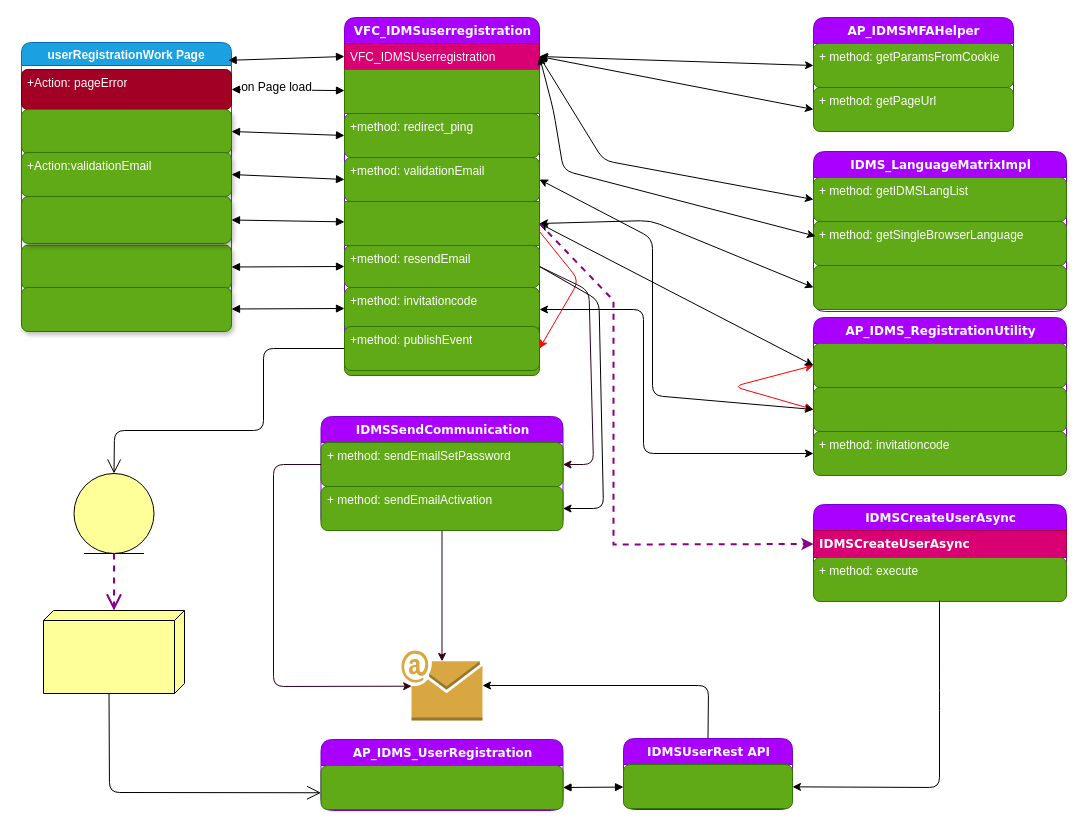
Image size: 1084x830. Some labels were removed from this diagram. The shapes that lost their labels are listed below. From the top down, each one's centre as x and y in pixels, then its label:
At (x=442, y=91): "+ method: pageError".
At (x=127, y=132): "+Action:redirect_ping".
At (x=127, y=221): "+Action:submit".
At (x=442, y=223): "+method: submit".
At (x=127, y=268): "+Action:resendEmail".
At (x=939, y=287): "+ method: getLocaleCode".
At (x=127, y=310): "+Action:invitationcode".
At (x=939, y=365): "+ method: validateFormData".
At (x=939, y=409): "+ method: validateEmail".
At (x=113, y=513): "Publish Event".
At (x=113, y=652): "Process Builder IDMSExternalSync".
At (x=441, y=787): "+ method: createUserInvokable".
At (x=707, y=786): "+ method: doPost".
